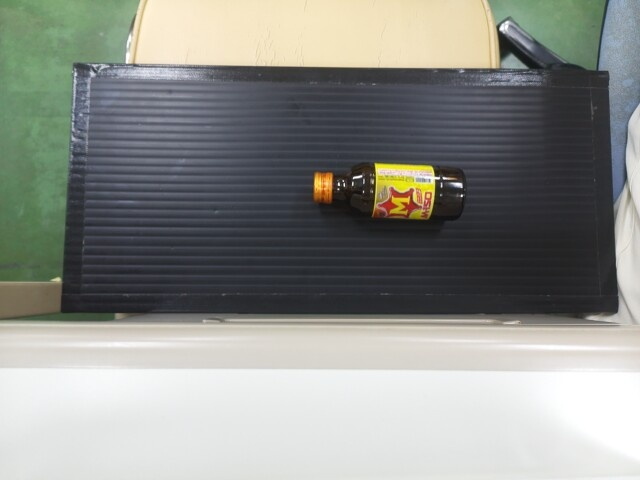glass_bottle: (307, 157, 465, 222)
